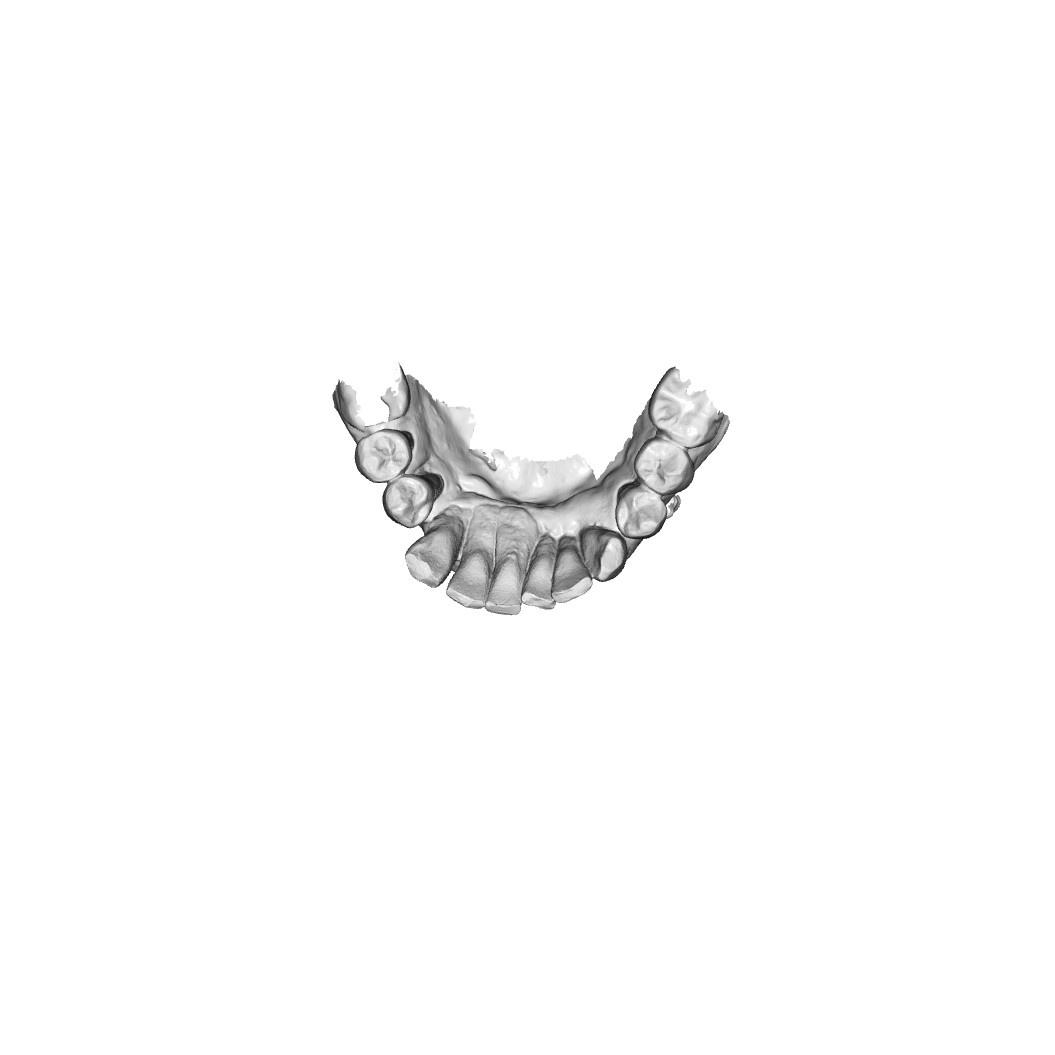canine: (403, 524, 455, 584), (584, 529, 629, 584)
incisor: (447, 540, 492, 609), (485, 541, 523, 613), (552, 539, 590, 600), (523, 538, 557, 605)
molar: (643, 364, 722, 449)
premolar: (637, 438, 693, 495), (357, 428, 411, 484), (616, 481, 667, 534), (388, 475, 434, 528)
